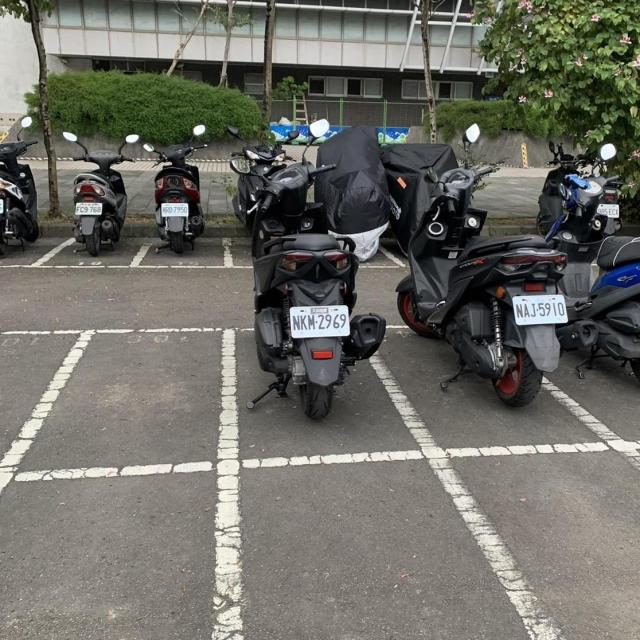W: (287, 302, 352, 340), (507, 292, 572, 327), (155, 198, 193, 221), (69, 198, 105, 220), (0, 196, 7, 219)
